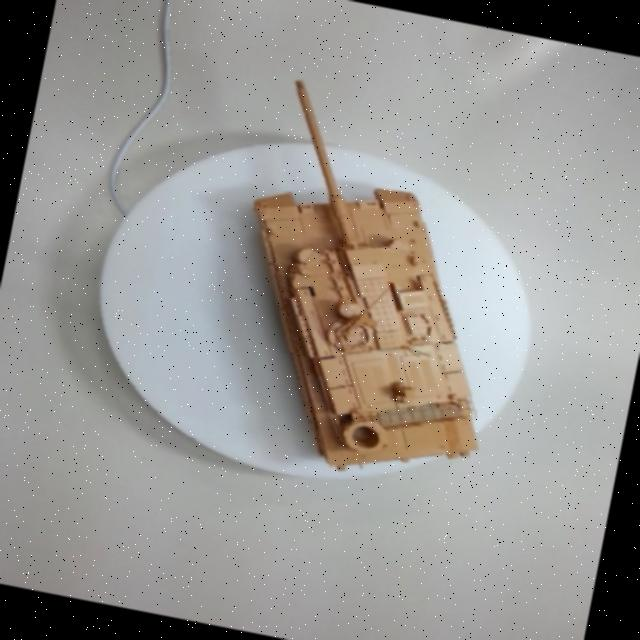korea tank: (167, 64, 558, 540)
